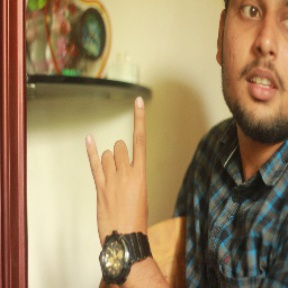V: (80, 93, 158, 239)
